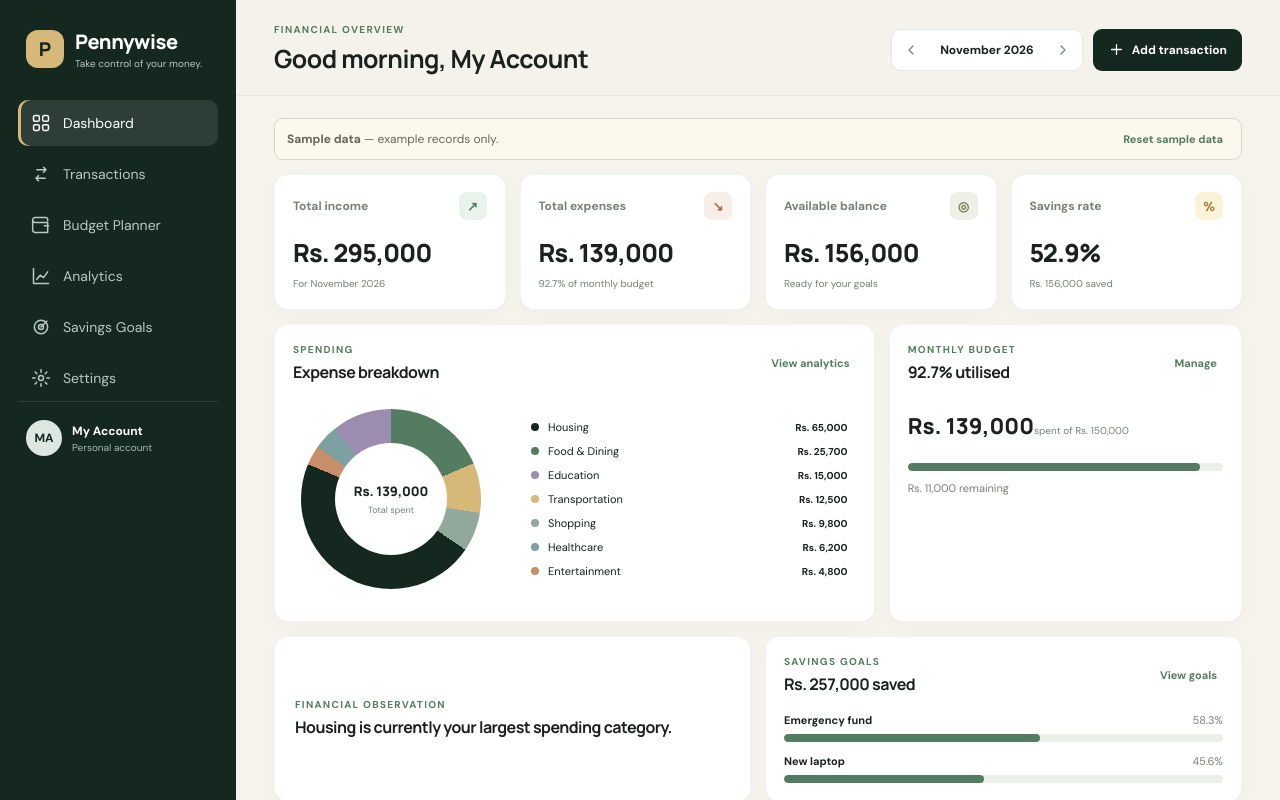
Test: settings persist the profile label and reset sample data
Later steps or results of the test are not shown.
Step 1. Click the button "Settings" → (118, 378), box [18, 355, 218, 401]
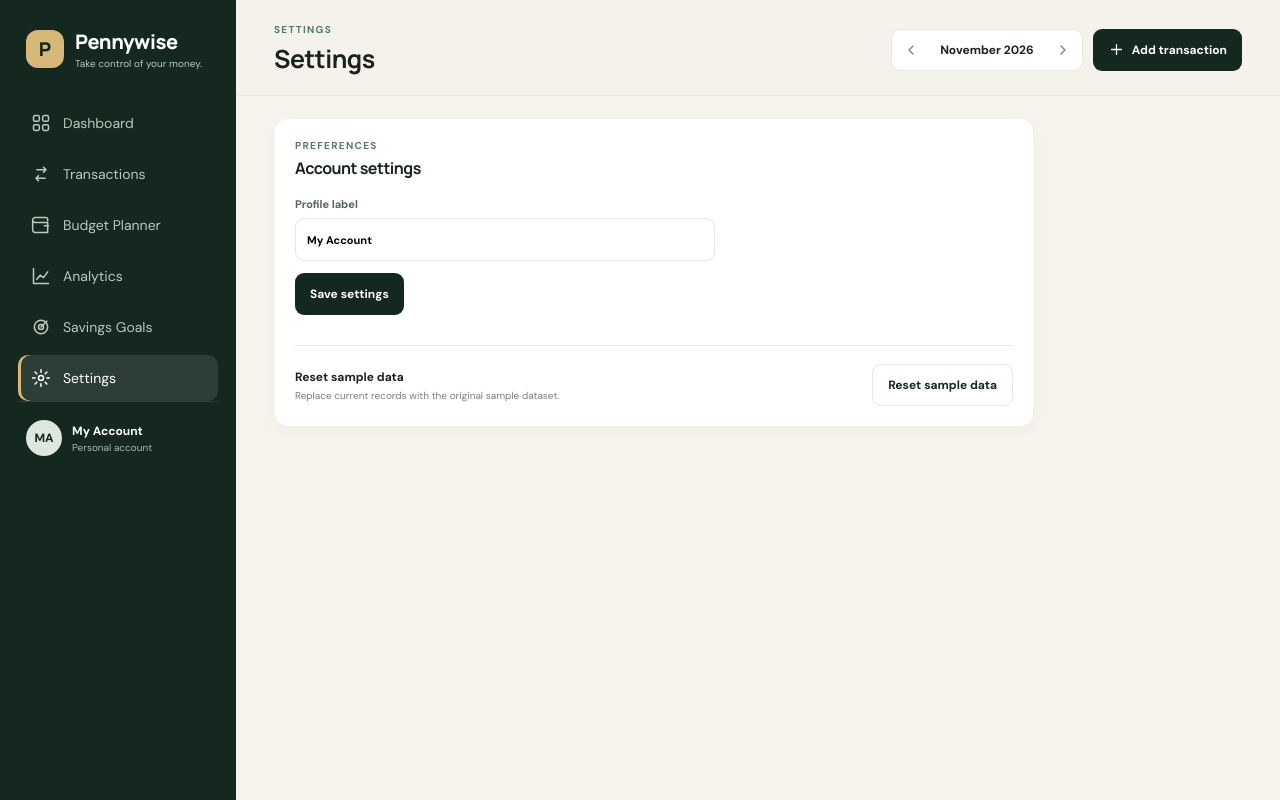
Step 2. Replace the text in the field labelled "Profile label" with "Ayesha Khan" → (505, 240), box [295, 218, 715, 261]
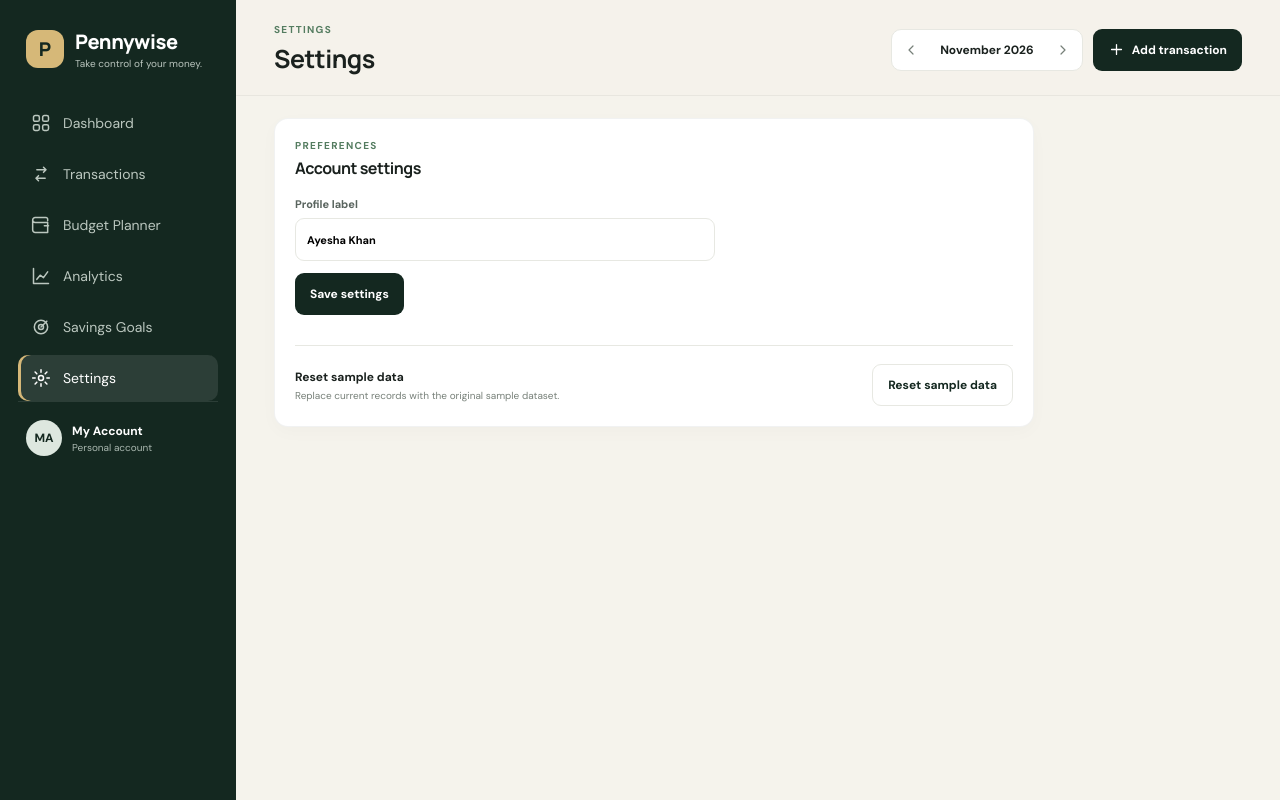
Step 3. Click the button "Save settings" → (349, 294), box [295, 273, 404, 315]
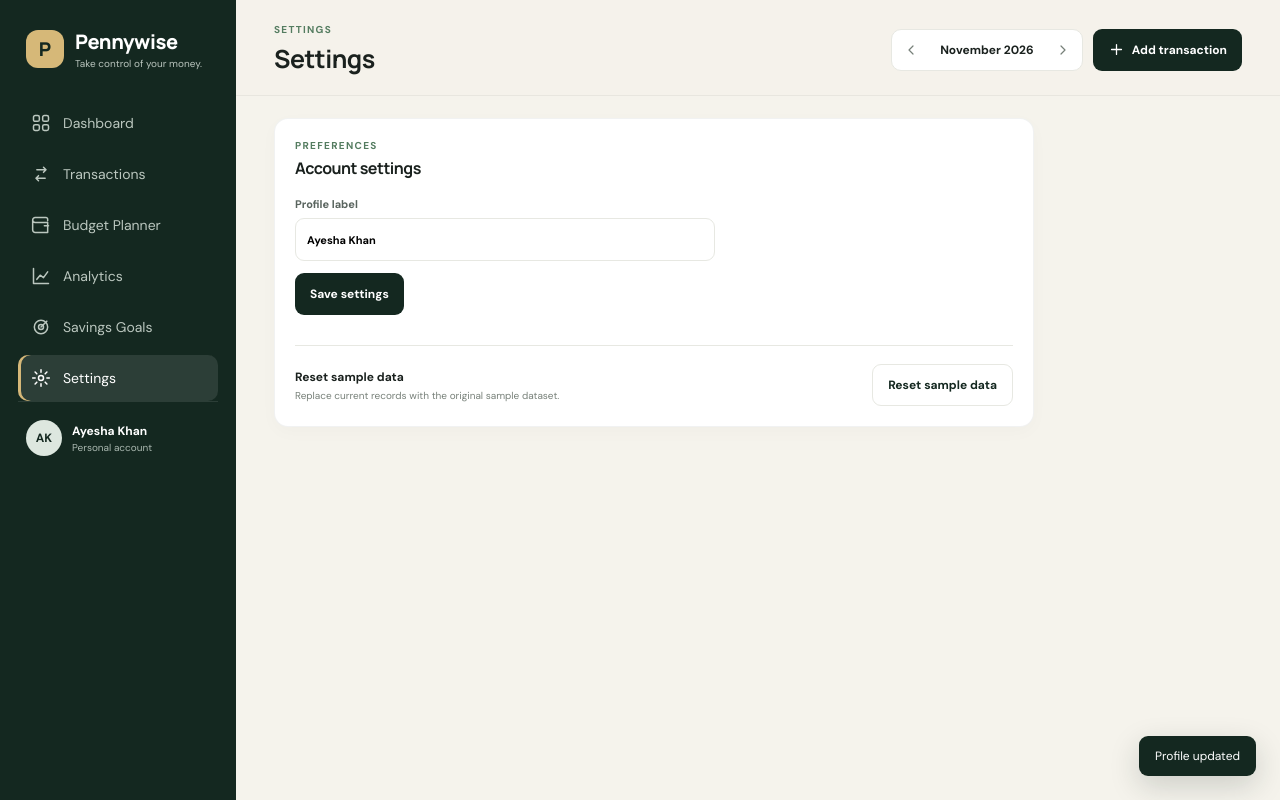
Check: the text "Ayesha Khan" is shown, box [72, 422, 152, 438]
